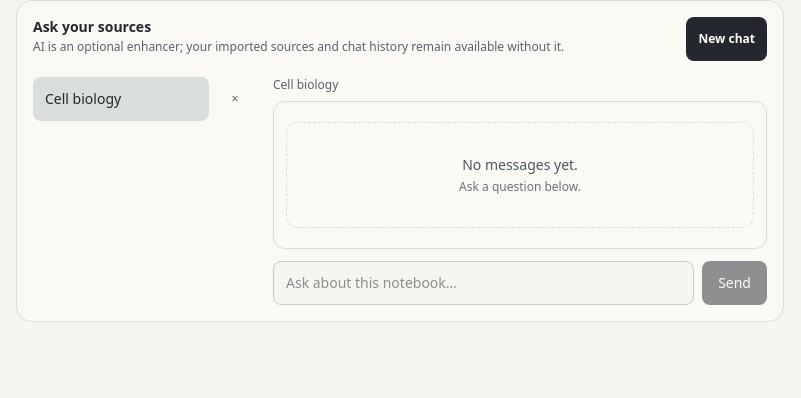
Test case: ChatPanel sessions › creates a session and sends a message
Expected: the button "Cell biology" is shown, [33,77,209,121]
Click the button "New chat" at (727, 39), box [686,17,767,61]
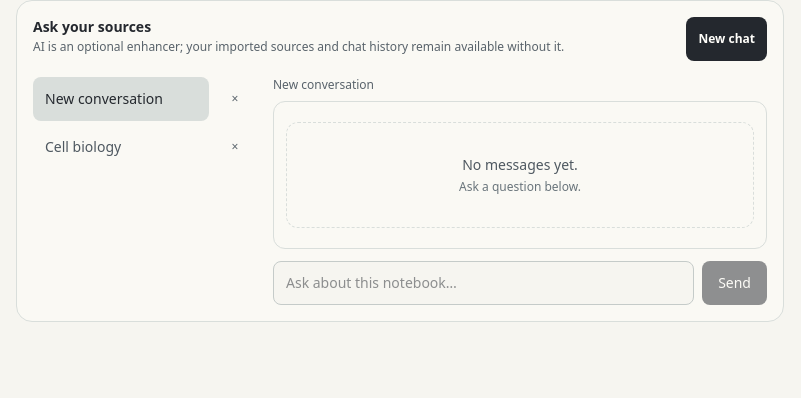
Expected: the button "New conversation" is shown, [33,77,209,121]
Type "What makes ATP?" into the field at (484, 283), box [273,261,694,305]
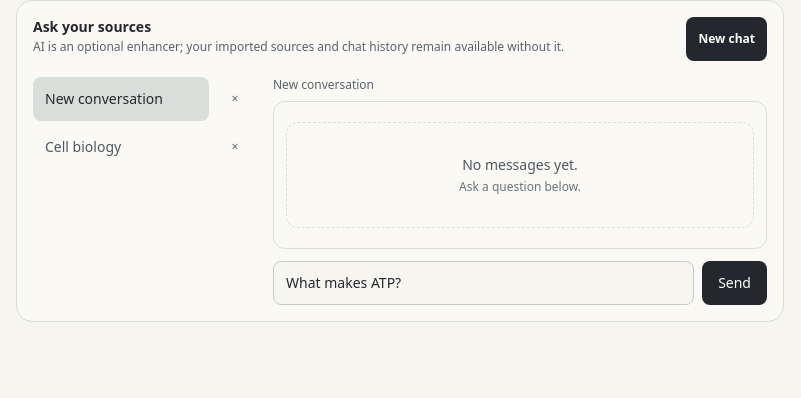
Click the button "Send" at (735, 283), box [702,261,767,305]
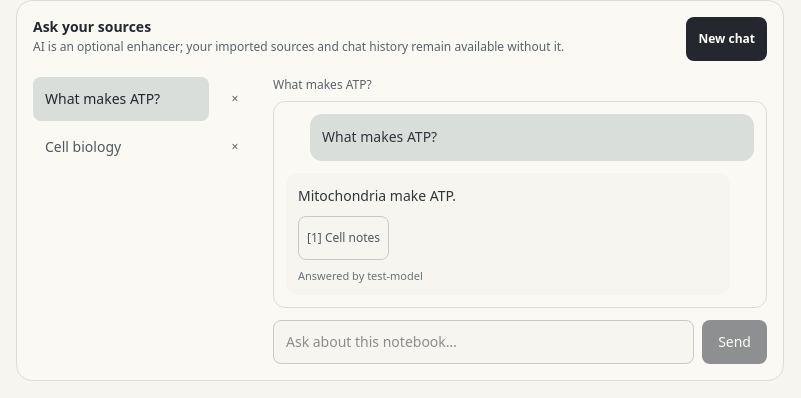
Expected: the button "What makes ATP?" is shown, [33,77,209,121]
